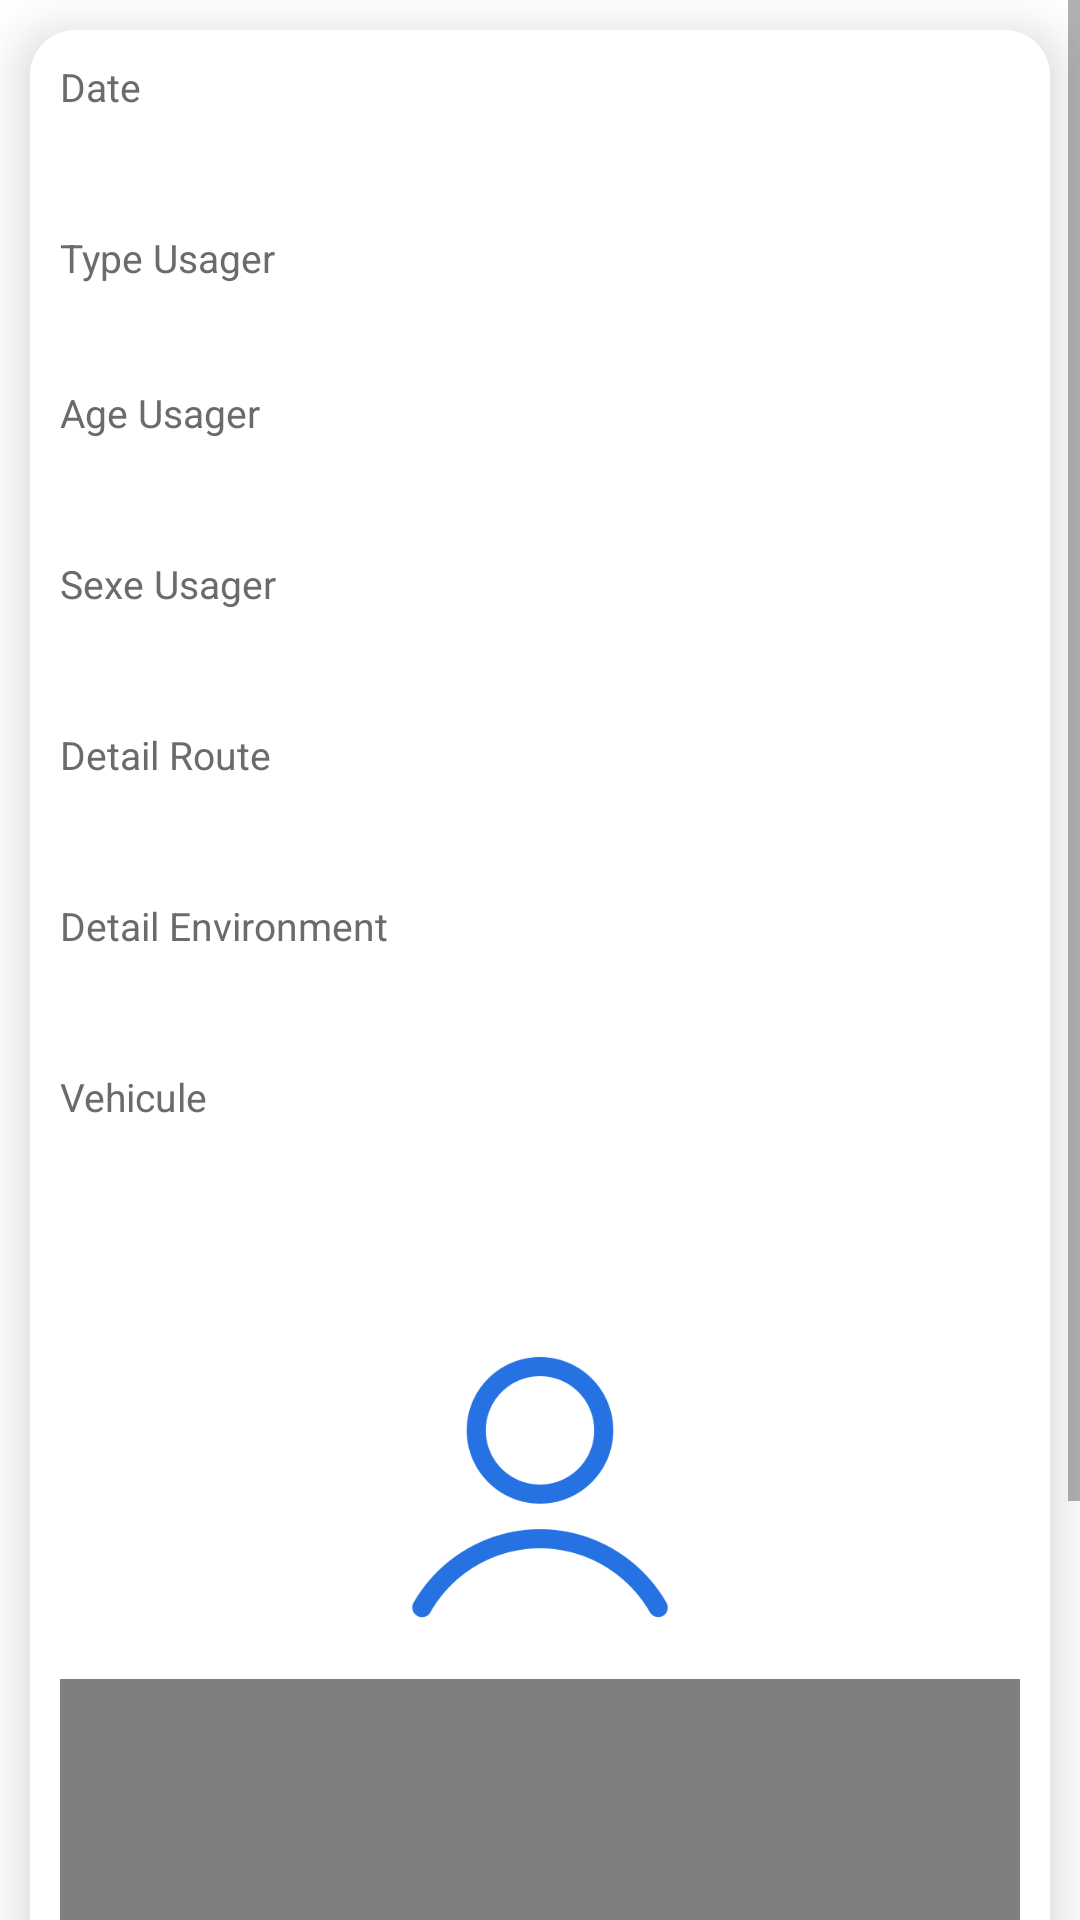

Named icons in this screenshot (1080px×1920px) and their bounding boxes, (x1, y1, x2, y2):
user: (412, 1357, 668, 1618)
